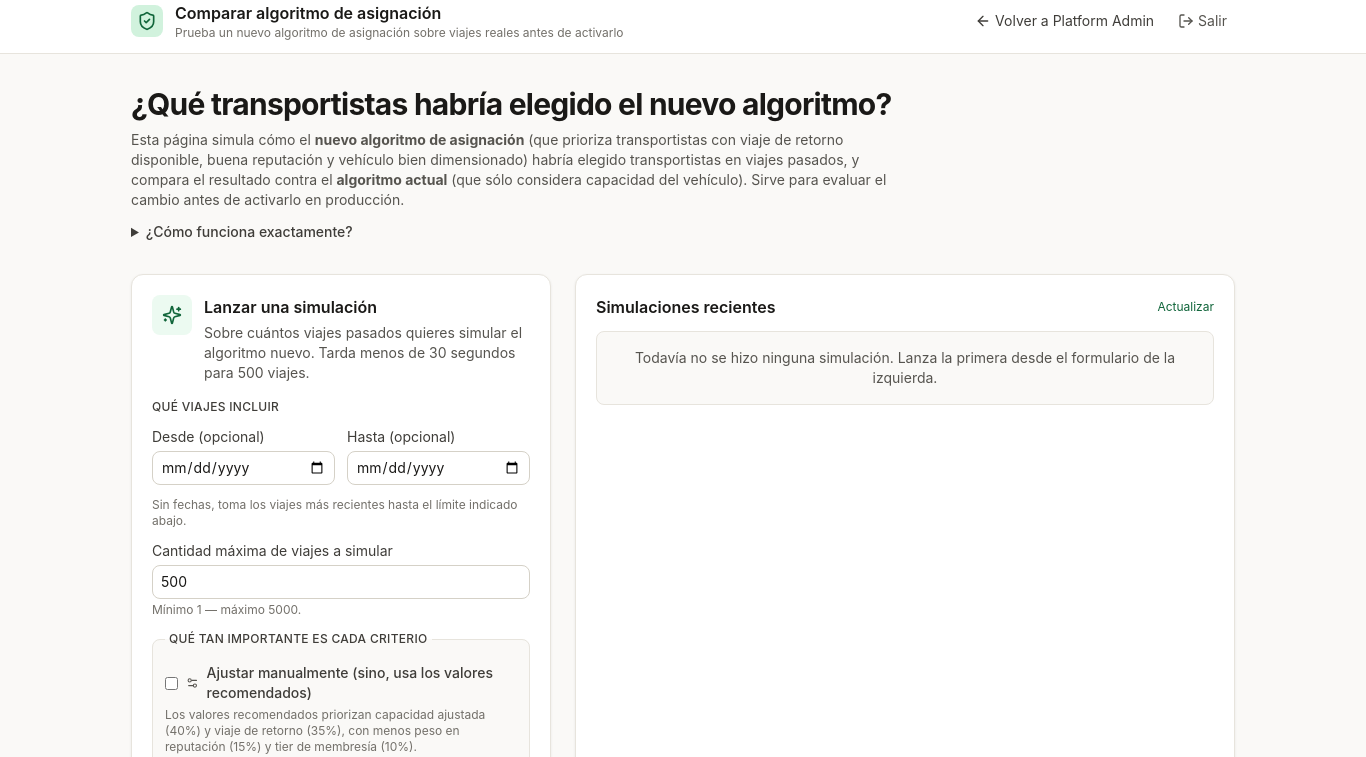
Scenario: Formulario — lanzar simulación › checkbox de ajustar manualmente muestra inputs de cada peso con descripciones
The image size is (1366, 757).
Click the checkbox labelled "Ajustar manualmente (sino, usa los valores recomendados)" at {"x": 172, "y": 683}, box [165,676,178,690]
(page scrolled)
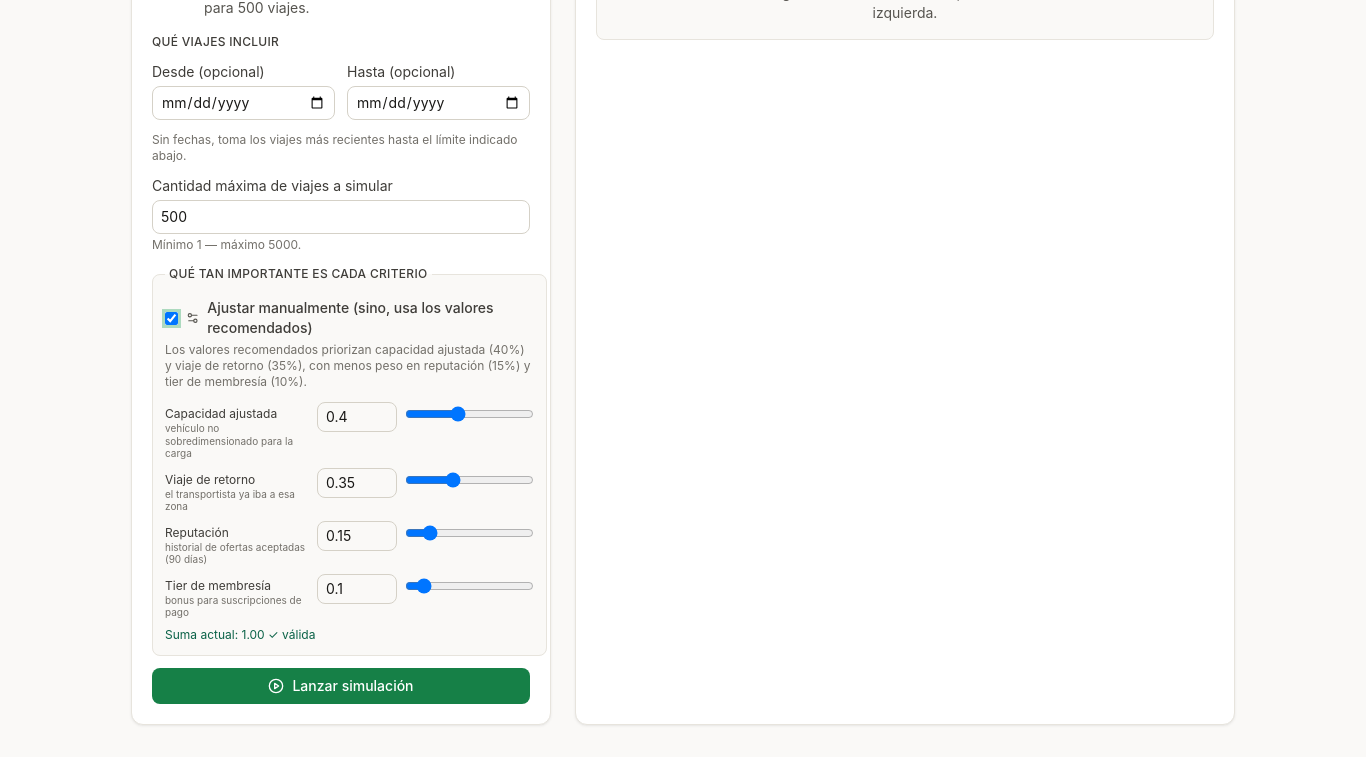
Expected: the text "Capacidad ajustada" is shown, [165,406,277,421]
Expected: the text "Viaje de retorno" is shown, [165,472,255,486]
Expected: the text "Reputación" is shown, [165,524,229,540]
